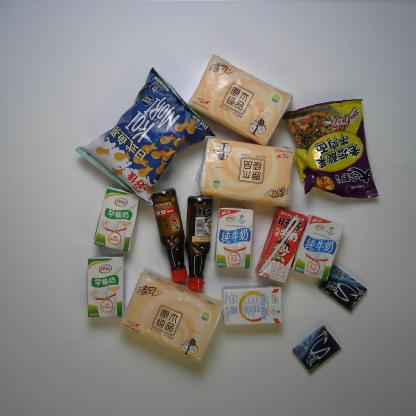Gum: (316, 261, 367, 313), (294, 325, 342, 373)
Instant Noodles: (282, 98, 378, 203)
Milk: (256, 204, 305, 282), (294, 214, 344, 282), (93, 187, 142, 252), (213, 203, 256, 273), (222, 282, 286, 328), (84, 255, 128, 319)
Puffed Food: (74, 66, 216, 208)
Seasoner: (150, 186, 188, 284), (182, 190, 215, 293)
Tissue: (187, 53, 293, 144), (118, 271, 222, 363), (200, 133, 297, 211)
